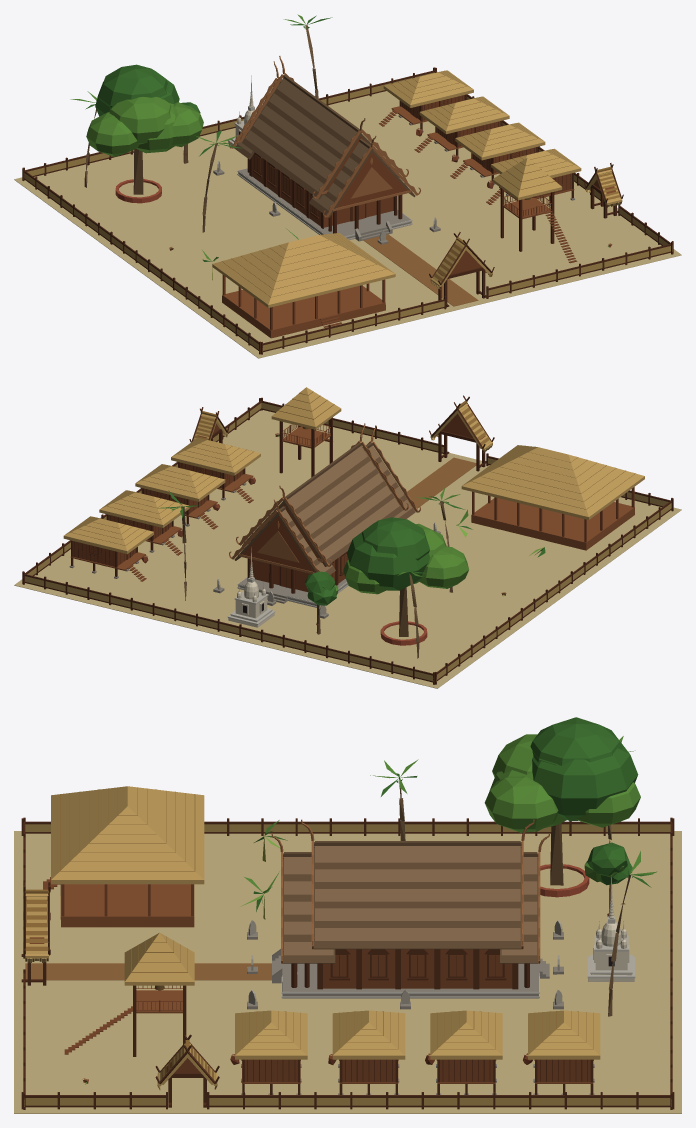
The model's file is temple_2.glb.
3 renders of one model, top to bottom at view 1: azimuth 30°, elevation 25°; view 2: azimuth 150°, elevation 25°; view 3: azimuth 270°, elevation 25°, orthographic. The views are drawn at different scales.
Parts seen in each view (by area): view 1: body; view 2: body; view 3: body.
Boxes of the visible parts, left/top/right/bottom form: body: left=14, top=14, right=681, bottom=358; body: left=14, top=387, right=681, bottom=688; body: left=14, top=717, right=681, bottom=1113.
Bounding box in the file's own units: 47.9 × 13.12 × 47.9.
